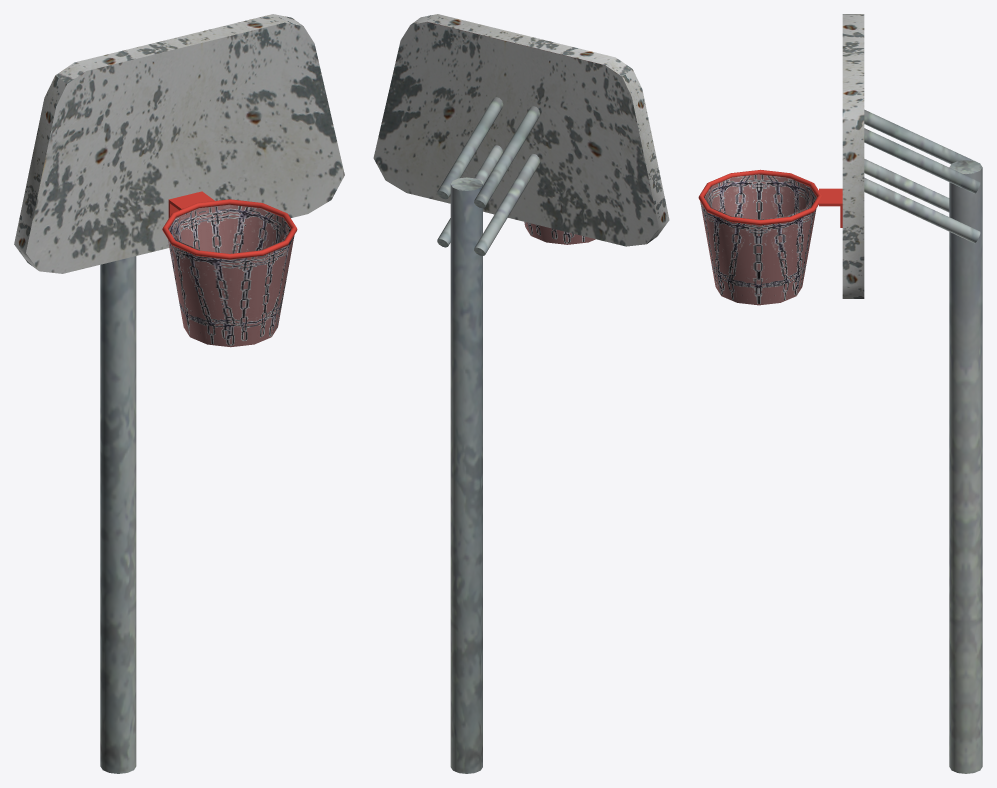
The model's file is BasketballHoop1.fbx.
3 views of the same model, side by side, from view 1: azimuth 30°, elevation 25°; view 2: azimuth 150°, elevation 25°; view 3: azimuth 270°, elevation 25° (orthographic). The views are drawn at different scales.
Parts seen in each view (by area): view 1: BackBoard, Pole, Net, Hoop; view 2: BackBoard, Pole, Net; view 3: Pole, BackBoard, Net, Hoop.
Part boxes in pixels (<box>): BackBoard: <box>14,14,344,273</box>; Pole: <box>100,256,136,773</box>; Net: <box>168,204,294,347</box>; Hoop: <box>162,191,297,259</box>; BackBoard: <box>373,14,669,255</box>; Pole: <box>450,177,482,773</box>; Net: <box>524,222,595,244</box>; Pole: <box>949,160,982,773</box>; BackBoard: <box>842,14,980,298</box>; Net: <box>700,174,816,305</box>; Hoop: <box>698,169,842,227</box>.
Size of the model in its own units: 5.12 by 11.8 by 4.29.
